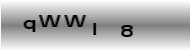8: (119, 24, 134, 38)
W: (38, 13, 61, 28), (64, 14, 86, 27)
l: (92, 22, 97, 36)
q: (22, 19, 36, 32)
